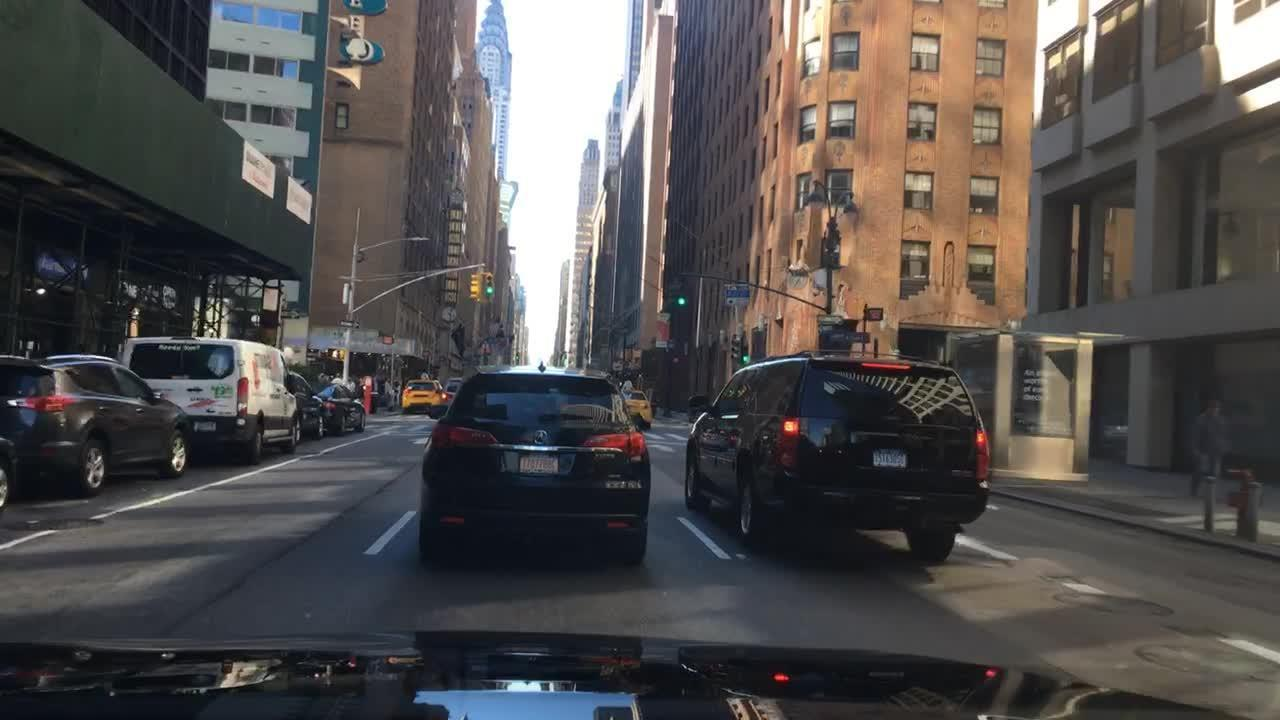acura: (530, 426, 549, 449)
